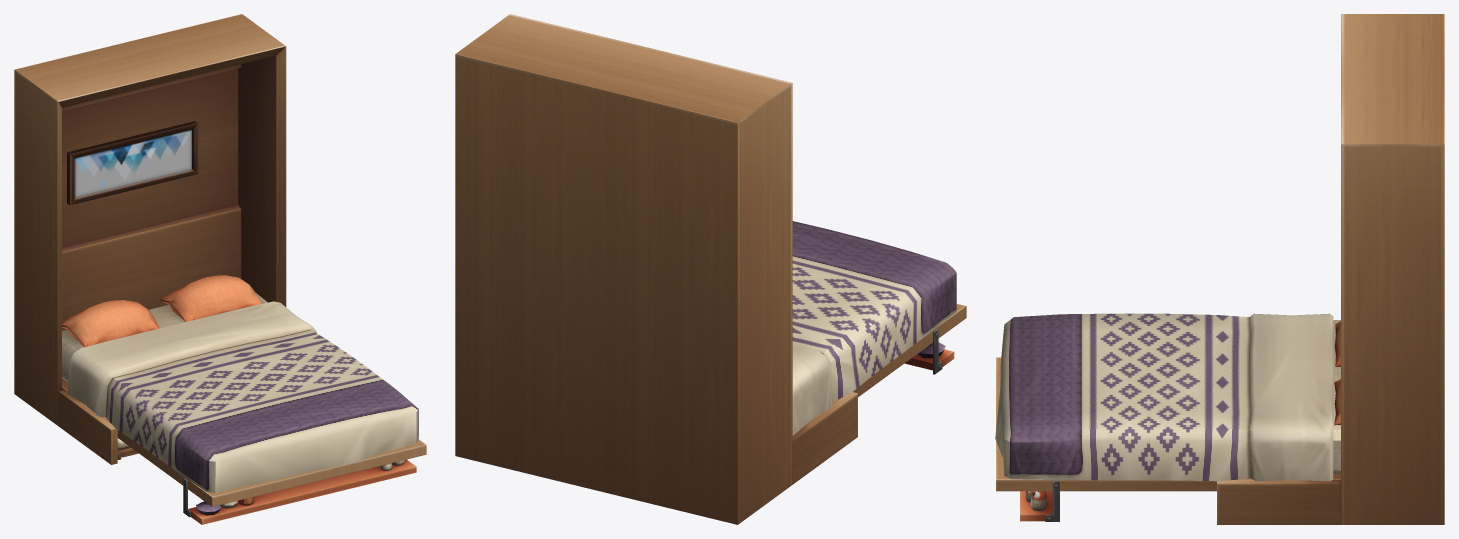
File: bed.fbx
3 renders of one model, left to right at view 1: azimuth 30°, elevation 25°; view 2: azimuth 150°, elevation 25°; view 3: azimuth 270°, elevation 25°, orthographic. The views are drawn at different scales.
Visible parts, largest first — view 1: TinyLiving_MurphyBed, s4studio_mesh_4, s4studio_mesh_0; view 2: TinyLiving_MurphyBed, s4studio_mesh_4, s4studio_mesh_0; view 3: s4studio_mesh_4, TinyLiving_MurphyBed, s4studio_mesh_0.
Boxes of the visible parts, x1,y1,x2,y2 form: TinyLiving_MurphyBed: (14, 14, 286, 425); s4studio_mesh_4: (62, 275, 418, 492); s4studio_mesh_0: (58, 121, 426, 524); TinyLiving_MurphyBed: (455, 14, 792, 524); s4studio_mesh_4: (792, 221, 956, 435); s4studio_mesh_0: (792, 303, 966, 484); s4studio_mesh_4: (995, 313, 1340, 481); TinyLiving_MurphyBed: (1341, 14, 1444, 524); s4studio_mesh_0: (996, 357, 1340, 524).
Size of the model in its own units: 176 by 240 by 257.
3 materials, 3 textured.
